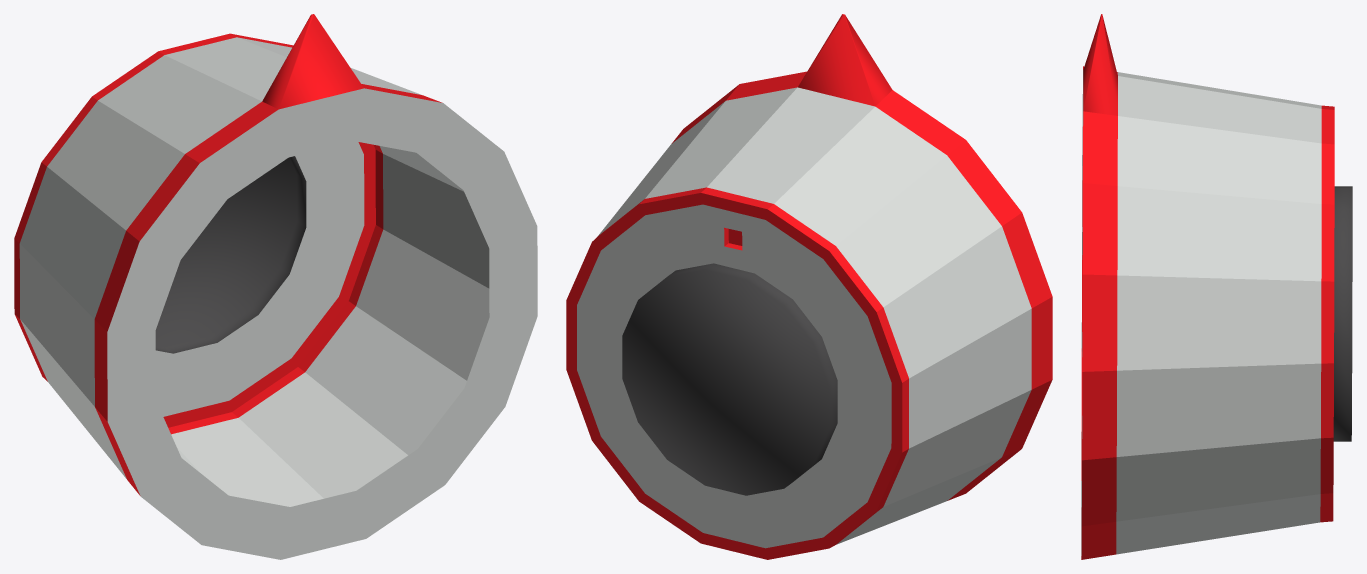
Rendered from knob.fbx.
3 views of the same model, side by side, from view 1: azimuth 30°, elevation 25°; view 2: azimuth 150°, elevation 25°; view 3: azimuth 270°, elevation 25° (orthographic). The views are drawn at different scales.
Visible parts, largest first — view 1: Pip, Circle, Pip2; view 2: Pip, Pip2, Circle; view 3: Pip, Circle, Pip2.
Boxes of the visible parts, x1,y1,x2,y2 form: Pip: (19, 14, 537, 559); Circle: (14, 14, 442, 495); Pip2: (155, 156, 306, 353); Pip: (577, 14, 1031, 548); Pip2: (622, 263, 837, 495); Circle: (566, 14, 1052, 559); Pip: (1081, 14, 1321, 555); Circle: (1081, 14, 1334, 559); Pip2: (1333, 186, 1352, 441).
Bounding box in the file's own units: 346 × 406 × 192.
